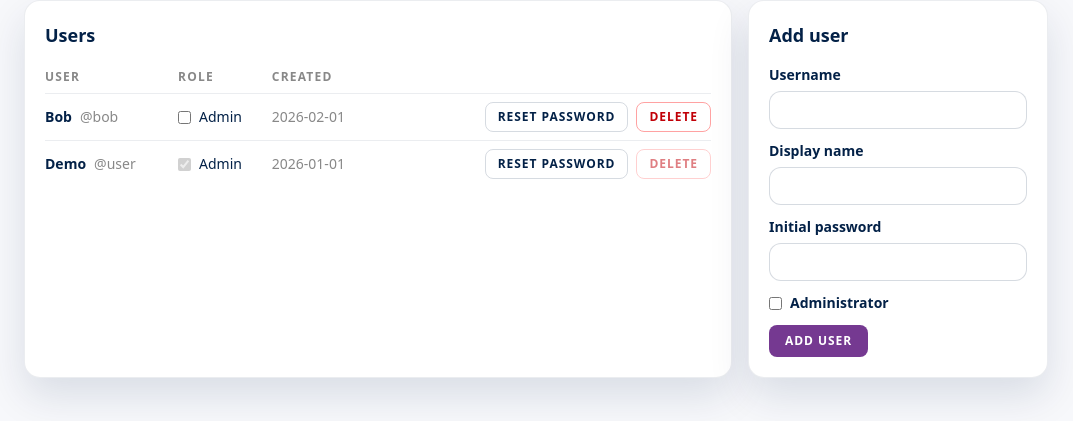
Test: UserAdmin › shows errors from user creation
Expected: the row with test id "user-row-bob" is shown, [45, 94, 711, 140]
Type "bob" into the field labelled "Username" at point(898, 110), box [769, 91, 1027, 129]
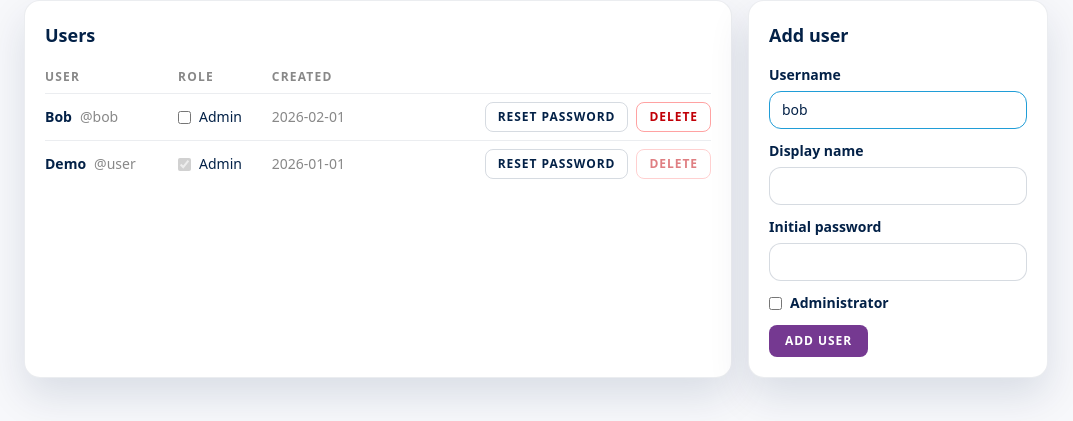
Type "secret-pass" into the password field labelled "Initial password" at point(898, 262), box [769, 243, 1027, 281]
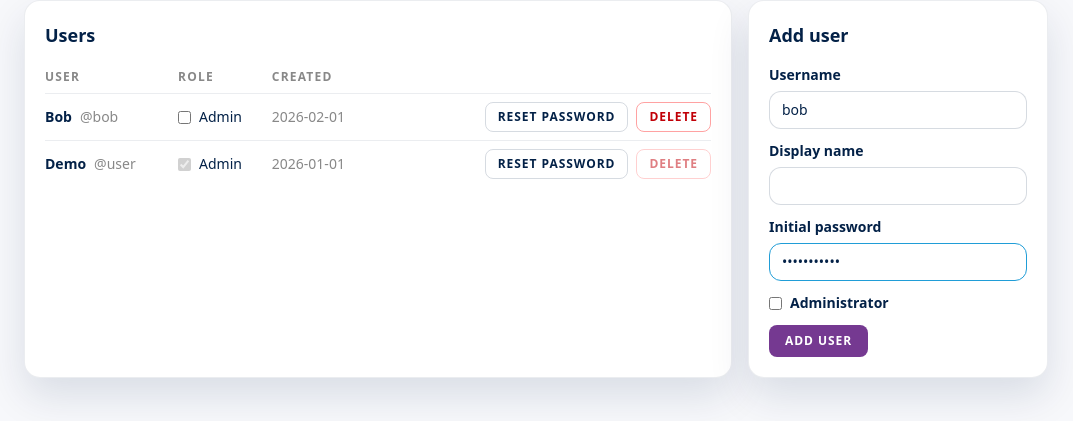
Click the button "Add user" at point(819, 341), box [769, 325, 868, 357]
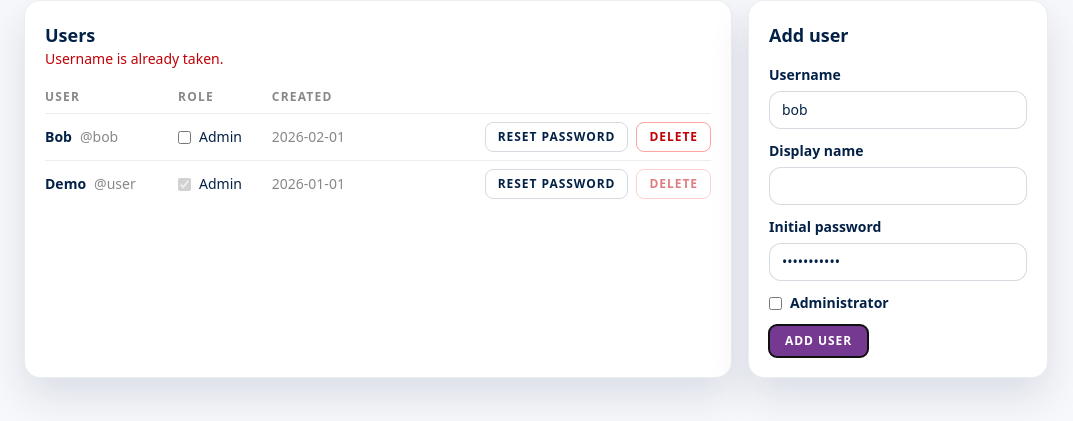
Expected: the text "Username is already taken." is shown, [45, 49, 224, 68]
